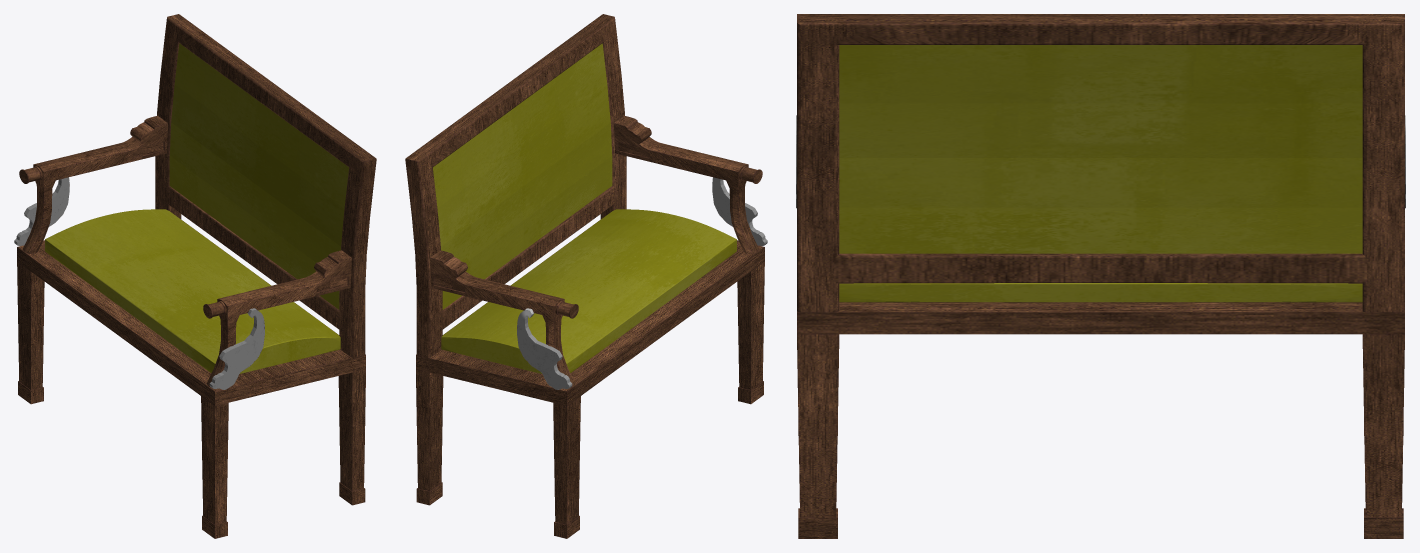
The model's file is krzeslov3.fbx.
3 renders of one model, left to right at view 1: azimuth 30°, elevation 25°; view 2: azimuth 150°, elevation 25°; view 3: azimuth 270°, elevation 25°, orthographic. The views are drawn at different scales.
Parts seen in each view (by area): view 1: Plane; view 2: Plane; view 3: Plane.
Boxes of the visible parts, x1,y1,x2,y2 form: Plane: [14, 14, 376, 538]; Plane: [405, 14, 767, 538]; Plane: [796, 14, 1405, 538].
Size of the model in its own units: 239 by 471 by 496.
